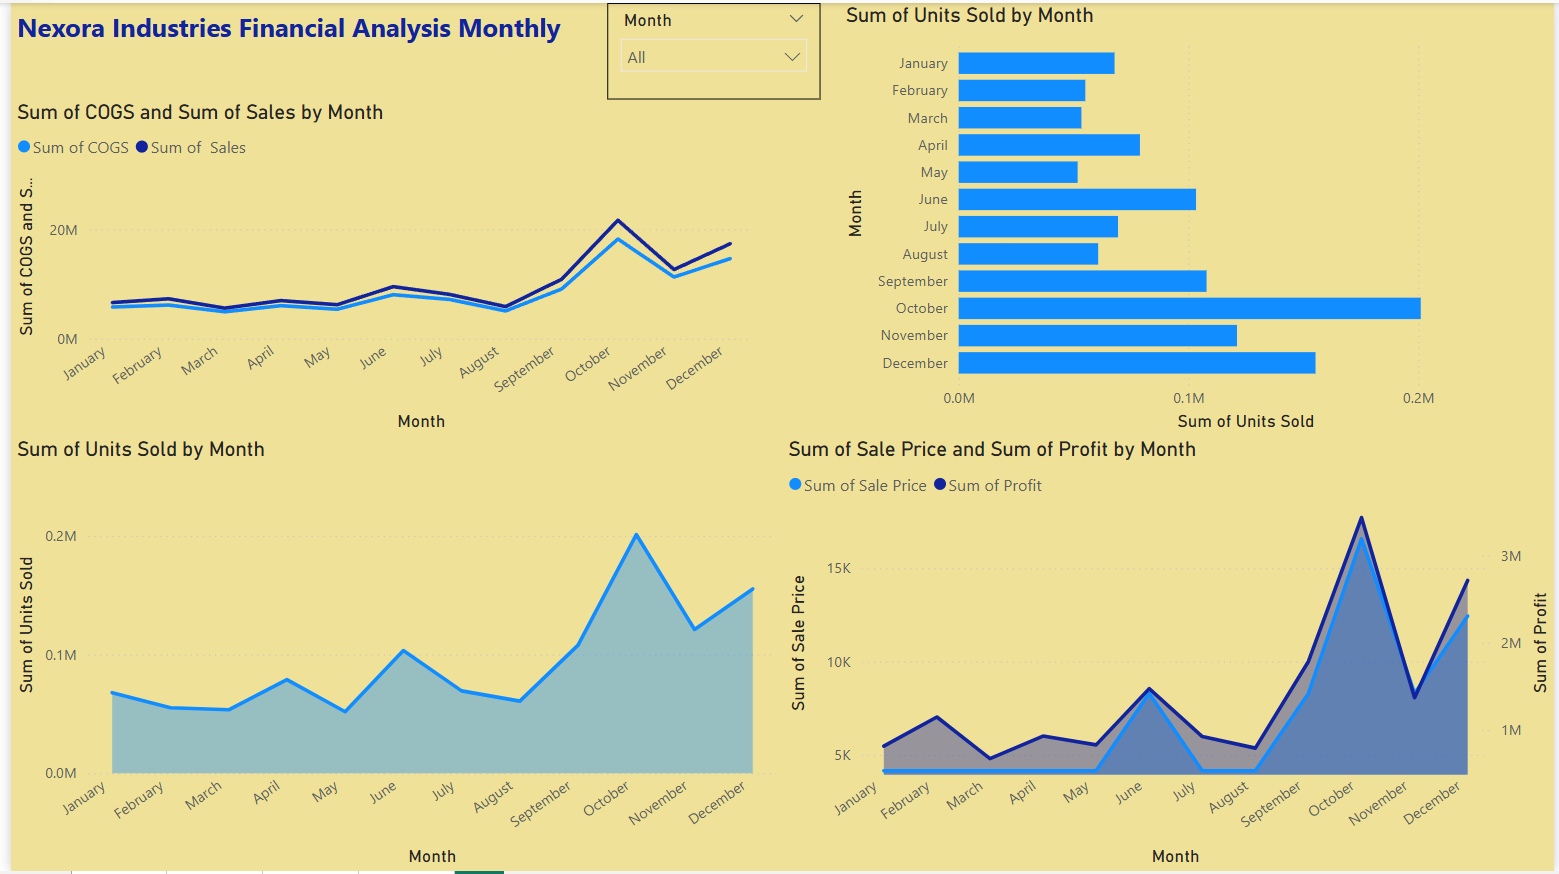

The page's visual inventory and layout, read from the dashboard file:
{"tool":"powerbi","page":{"name":"Page 3","canvas":[1280,720],"ordinal":2},"visuals":[{"type":"areaChart","fields":{"Category":["financials.Date.Variation.Date Hierarchy.Month"],"Y":["Sum(financials.Sale Price)"],"Y2":["Sum(financials.Profit)"]},"box":[639.5,359.5,640.8,360.9],"z":0},{"type":"stackedAreaChart","fields":{"Category":["financials.Date.Variation.Date Hierarchy.Month"],"Y":["Sum(financials.Units Sold)"]},"box":[0,359.5,639.5,360.9],"z":1000},{"type":"lineChart","fields":{"Category":["financials.Date.Variation.Date Hierarchy.Month"],"Y":["Sum(financials.COGS)","Sum(financials. Sales)"]},"box":[0,80.3,620.5,280.3],"z":2000},{"type":"barChart","fields":{"Category":["financials.Date.Variation.Date Hierarchy.Month"],"Y":["Sum(financials.Units Sold)"]},"box":[686.7,0,594,359.6],"z":3000},{"type":"slicer","fields":{"Values":["financials.Date.Variation.Date Hierarchy.Month"]},"box":[494.2,0,176.7,80.2],"z":4000},{"type":"textbox","box":[0,0,482.4,50.2],"z":5000}]}

Visuals, with their boxes in screenshot pixels (x1, y1, x2, y2), scaled from the page's 1280x720 canvas onto the 1559x874 screenshot:
areaChart - financials.Date.Variation.Date Hierarchy.Month x Sum(financials.Sale Price): 779:436:1558:873
stackedAreaChart - financials.Date.Variation.Date Hierarchy.Month x Sum(financials.Units Sold): 0:436:779:873
lineChart - financials.Date.Variation.Date Hierarchy.Month x Sum(financials.COGS): 0:97:756:438
barChart - financials.Date.Variation.Date Hierarchy.Month x Sum(financials.Units Sold): 836:0:1558:437
slicer - financials.Date.Variation.Date Hierarchy.Month: 602:0:817:97
textbox: 0:0:588:61
